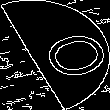O_SW: (12, 25, 98, 85)
